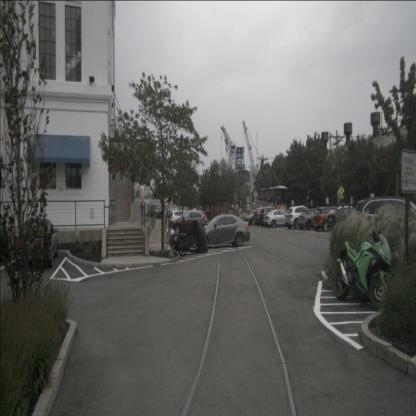vehicle-car: (352, 196, 416, 250), (16, 218, 58, 268), (199, 214, 251, 250), (170, 210, 207, 235), (327, 205, 357, 232), (284, 205, 313, 229), (313, 207, 337, 232), (263, 209, 292, 228), (298, 208, 322, 230), (257, 207, 277, 227), (169, 210, 193, 226), (245, 209, 262, 227)
vehicle-motorcycle: (334, 229, 390, 310), (176, 219, 209, 256), (166, 224, 179, 252)
